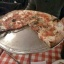pizza: (1, 6, 61, 49)
